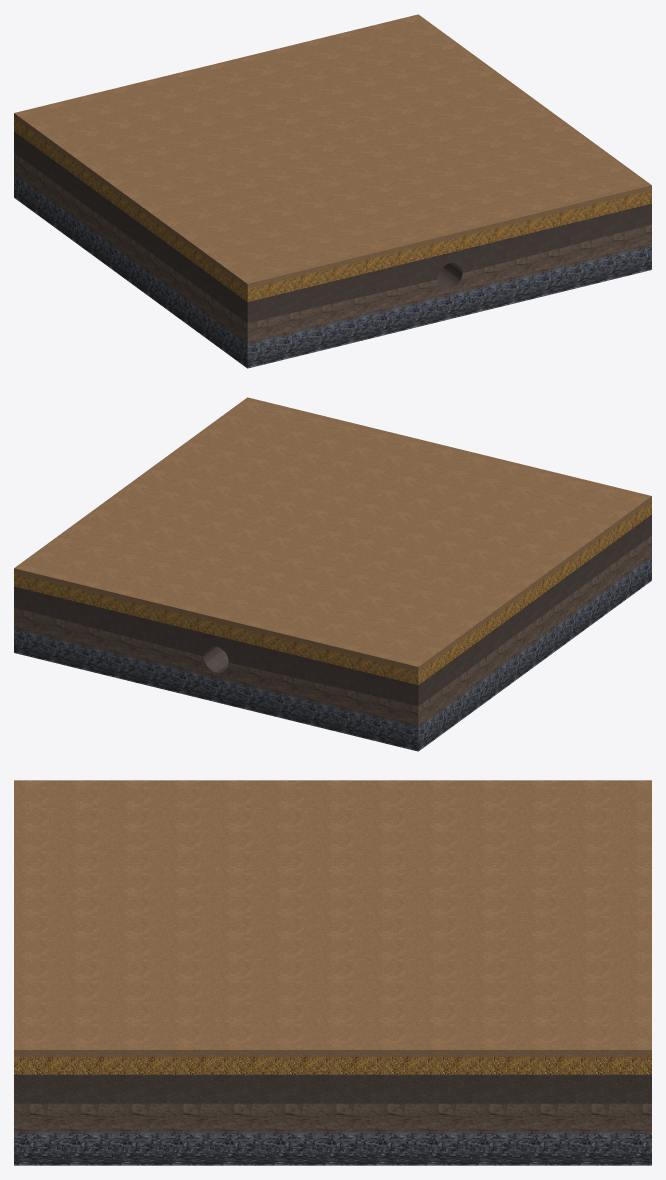
Rendered from 土体结构100x100(开孔).fbx.
3 renders of one model, top to bottom at view 1: azimuth 30°, elevation 25°; view 2: azimuth 150°, elevation 25°; view 3: azimuth 270°, elevation 25°, orthographic. The views are drawn at different scales.
Parts seen in each view (by area): view 1: tuti100x100; view 2: tuti100x100; view 3: tuti100x100.
Boxes of the visible parts, <box> form: tuti100x100: <box>14,14,651,368</box>; tuti100x100: <box>14,397,651,751</box>; tuti100x100: <box>14,780,651,1165</box>.
Bounding box in the file's own units: 100 × 20 × 100.
